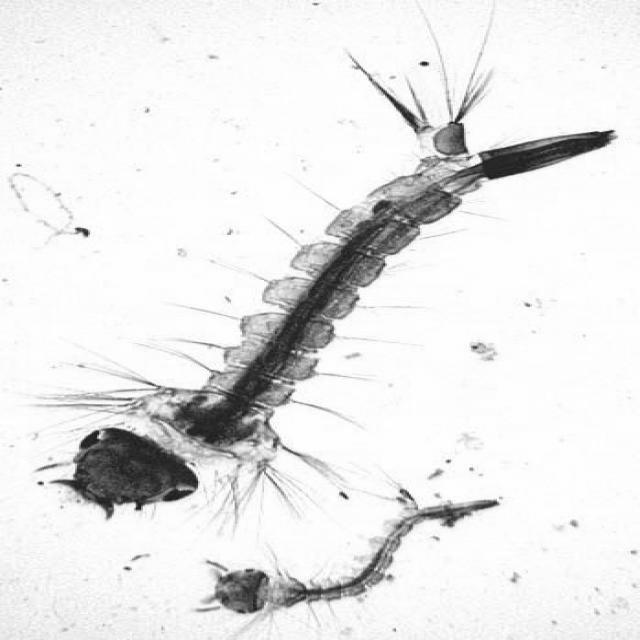larvas: (71, 137, 612, 508), (210, 500, 503, 617)
